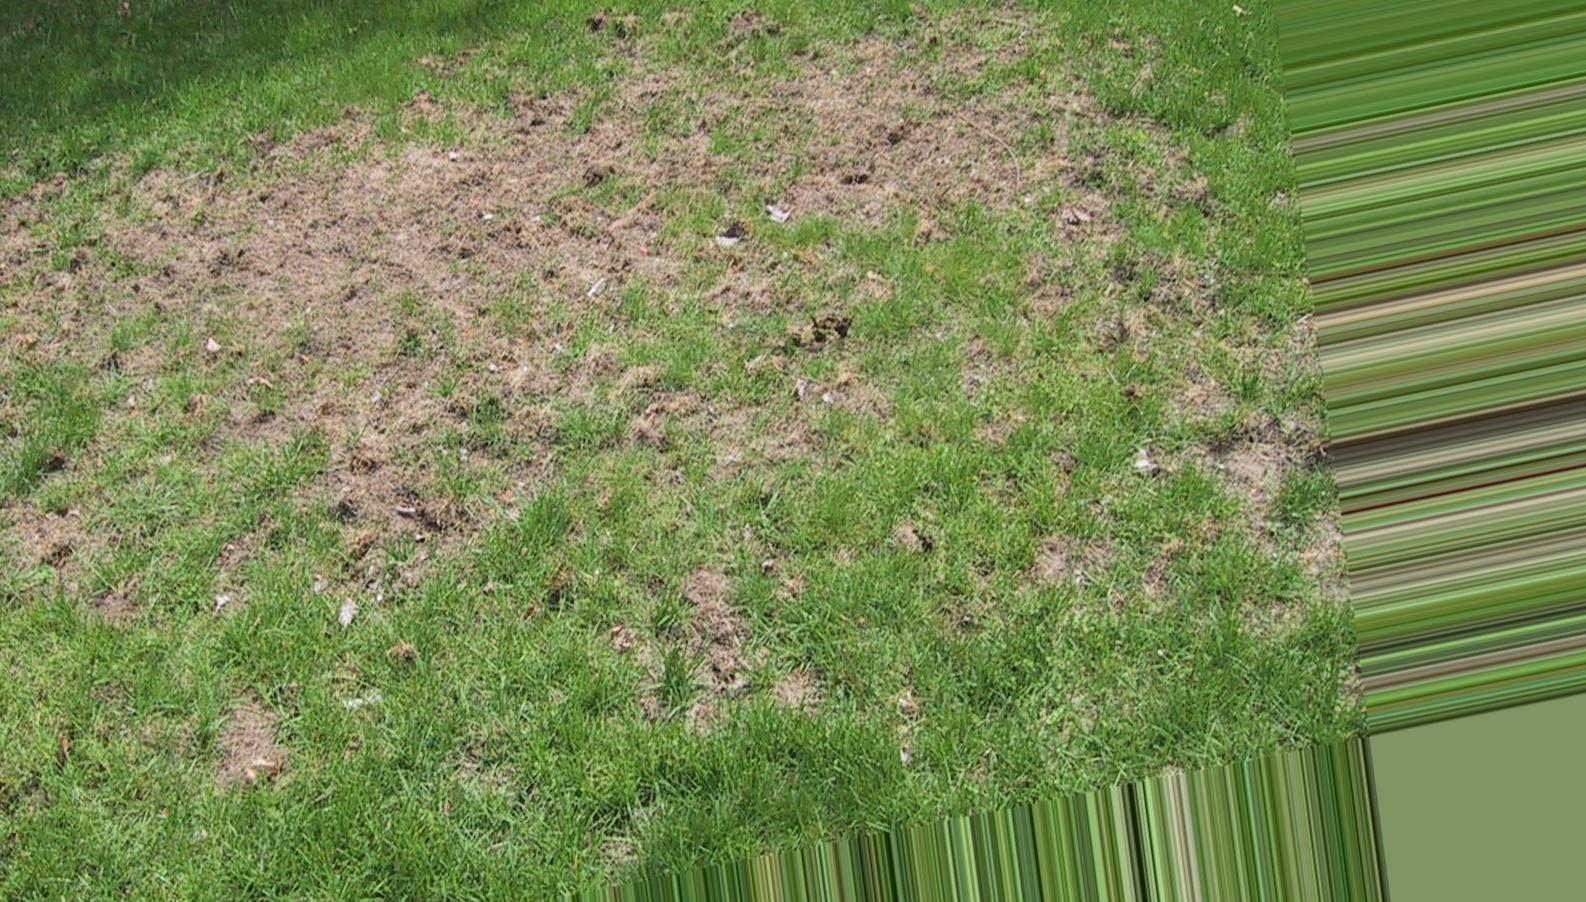patch: (80, 167, 548, 475), (591, 273, 873, 496), (676, 65, 995, 219)
